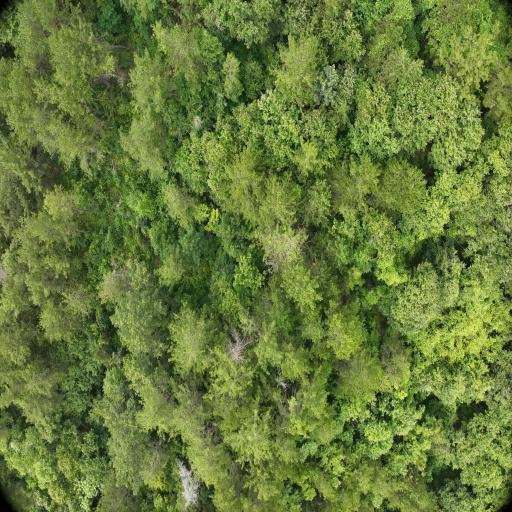dead-tree: (177, 462, 198, 508), (226, 332, 250, 361)
